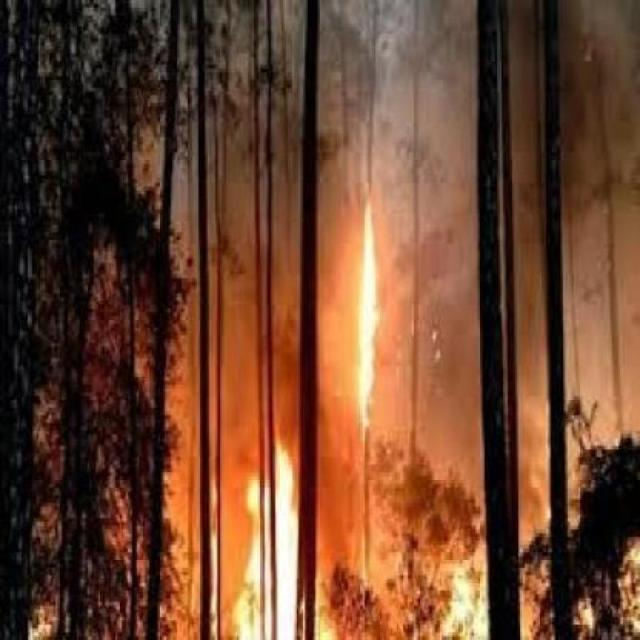Fire: (133, 369, 485, 640)
